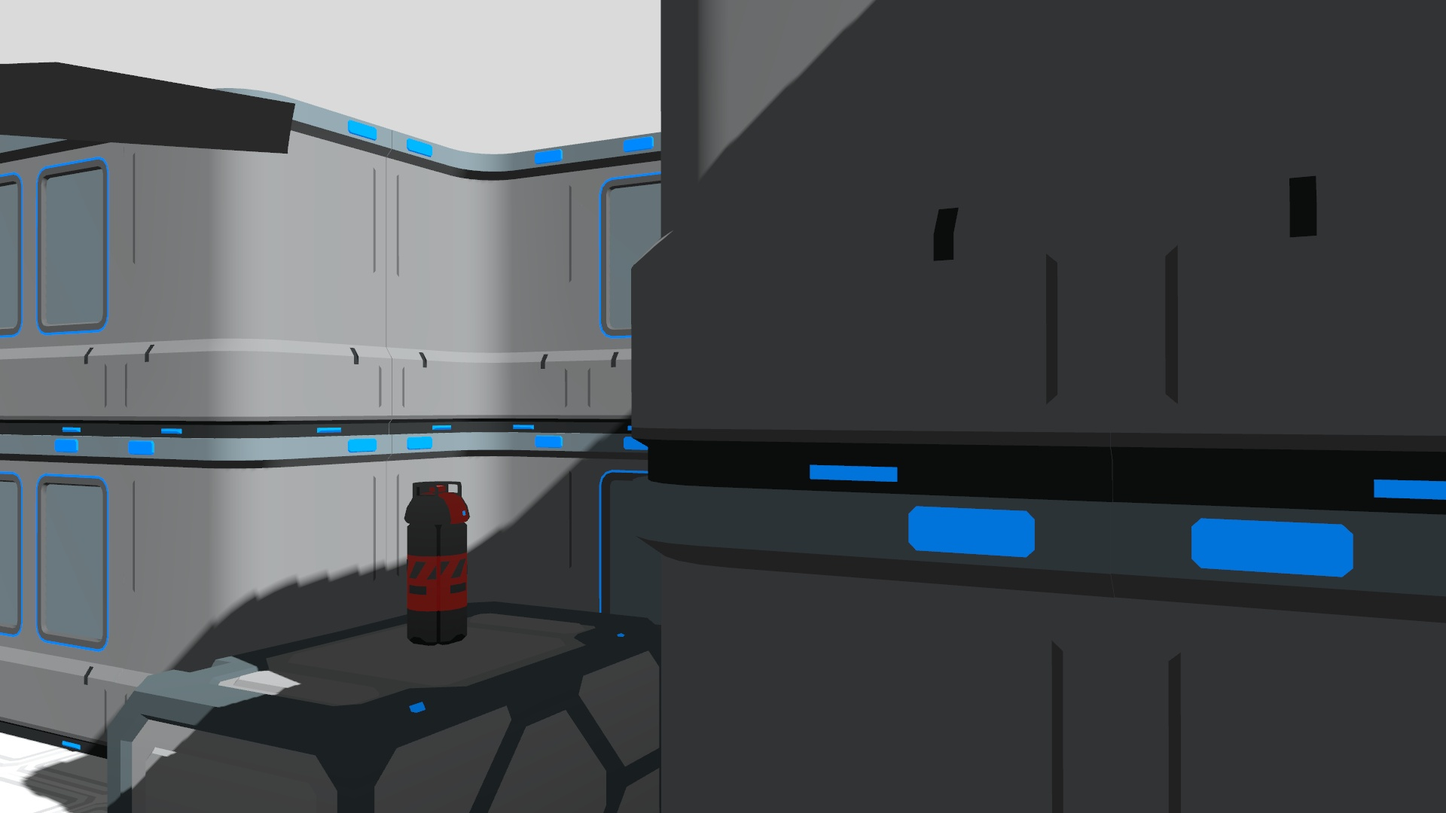red_barrel: (402, 476, 477, 648)
